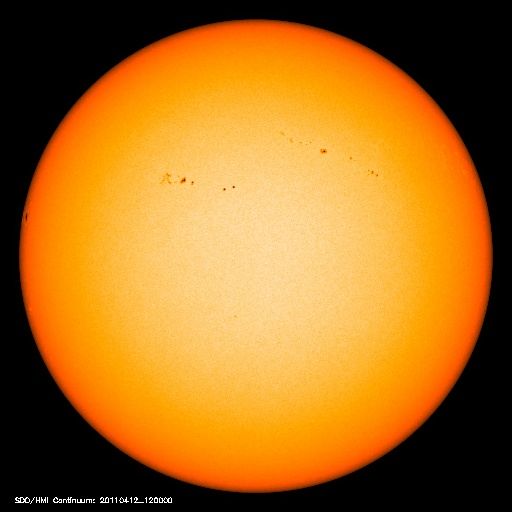sunspot: (268, 122, 385, 183), (153, 166, 240, 199), (16, 200, 42, 230)
